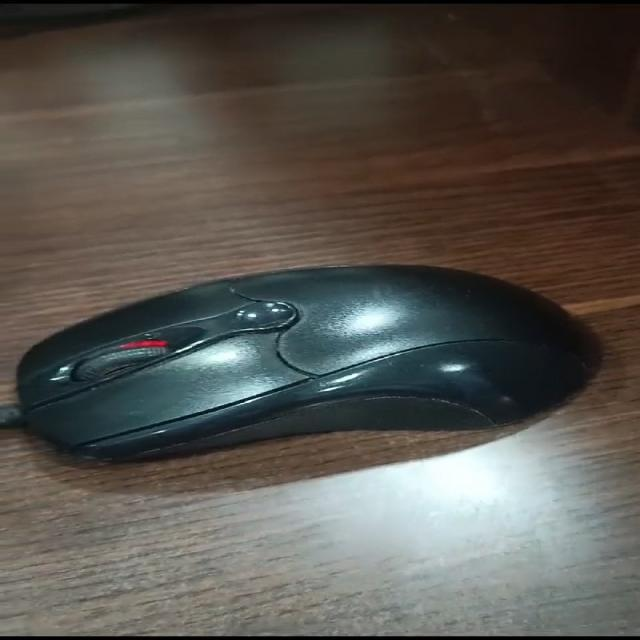mouse: (0, 220, 619, 524)
